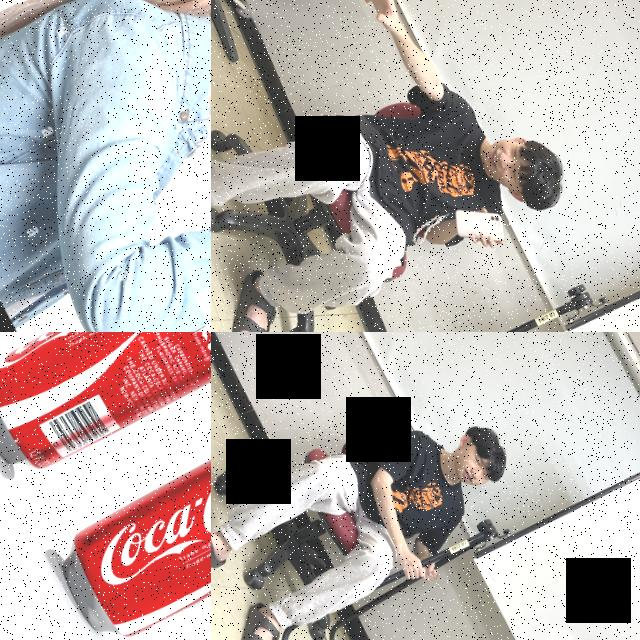can: (44, 406, 211, 640), (0, 332, 211, 487)
